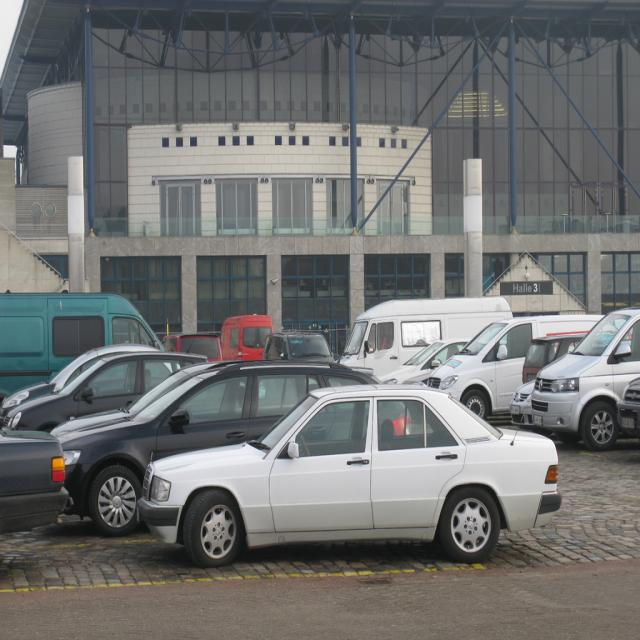car: (42, 356, 407, 528), (428, 314, 607, 423), (0, 346, 183, 430), (531, 307, 639, 449), (0, 424, 73, 528), (382, 337, 483, 385), (507, 378, 542, 427)
